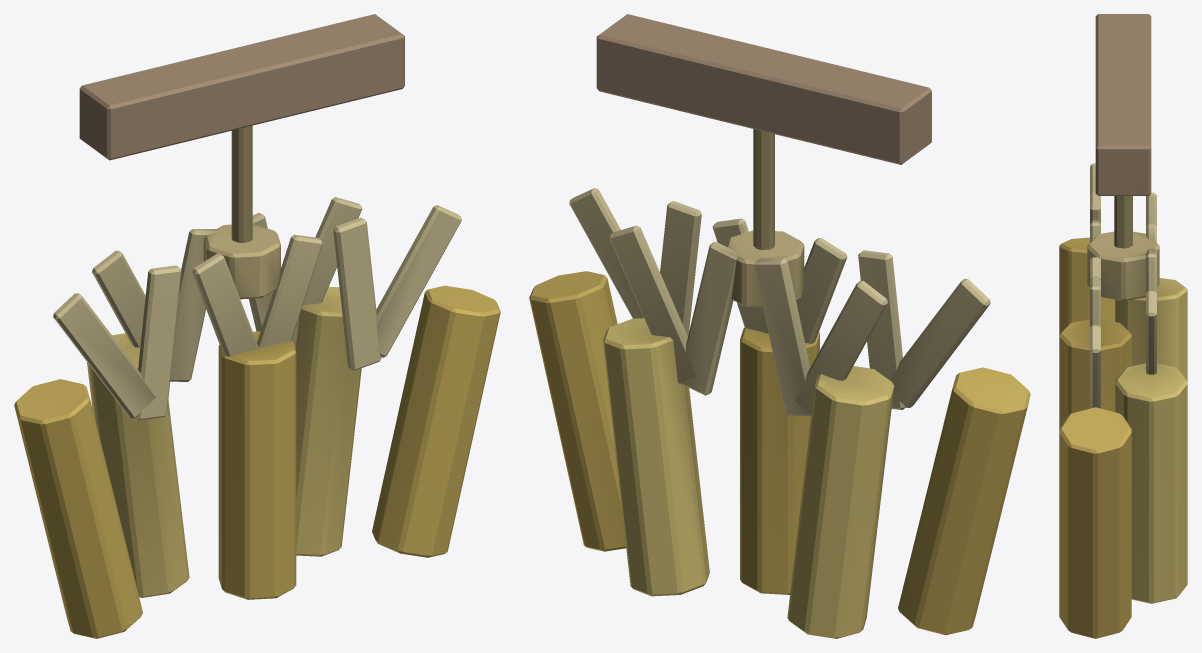
File: harvest_corn_string.glb
The picture shows the model from 3 angles, left to right: view 1: azimuth 30°, elevation 25°; view 2: azimuth 150°, elevation 25°; view 3: azimuth 270°, elevation 25°; orthographic projection. The views are drawn at different scales.
Size of the model in its own units: 0.5439 by 0.565 by 0.1377.
